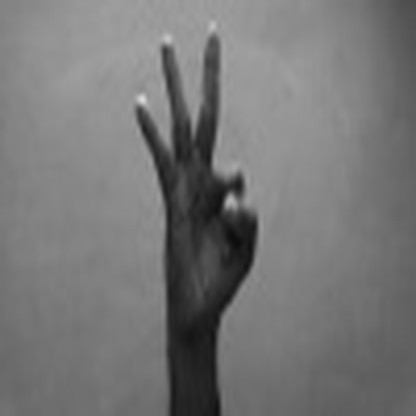f: (129, 20, 266, 327)
